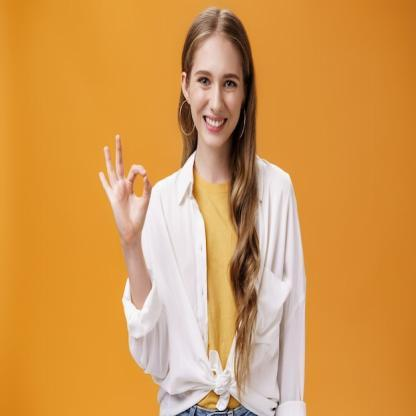ok: (96, 134, 154, 248)
